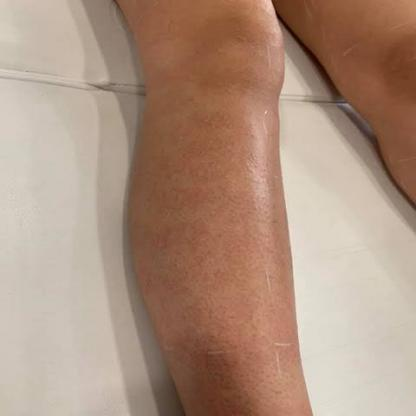Chicken Skin: (156, 122, 279, 340)
